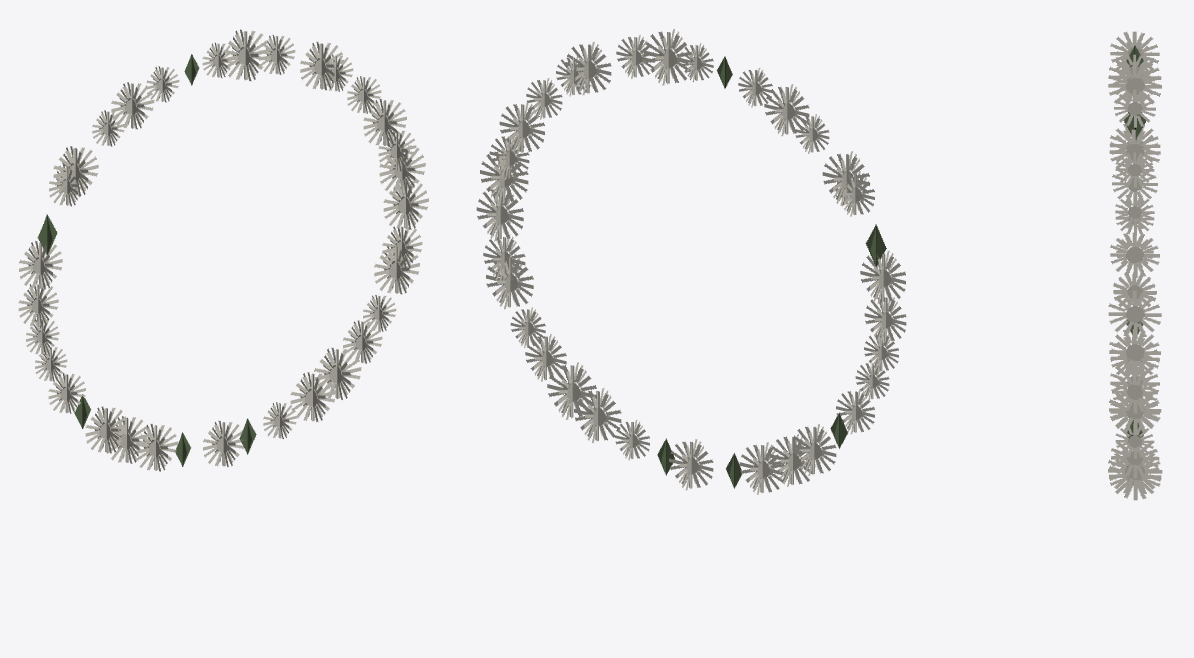
The model's file is VongHoa_Tuoi.glb.
3 views of the same model, side by side, from view 1: azimuth 30°, elevation 25°; view 2: azimuth 150°, elevation 25°; view 3: azimuth 270°, elevation 25° (orthographic). The views are drawn at different scales.
Parts seen in each view (by area): view 1: VongHoa_Tuoi; view 2: VongHoa_Tuoi; view 3: VongHoa_Tuoi.
Boxes of the visible parts, <box> form: VongHoa_Tuoi: <box>18,29,428,471</box>; VongHoa_Tuoi: <box>476,29,906,494</box>; VongHoa_Tuoi: <box>1108,31,1162,500</box>.
Bounding box in the file's own units: 1.09 × 1.35 × 0.5095.
1 material, 1 textured.
